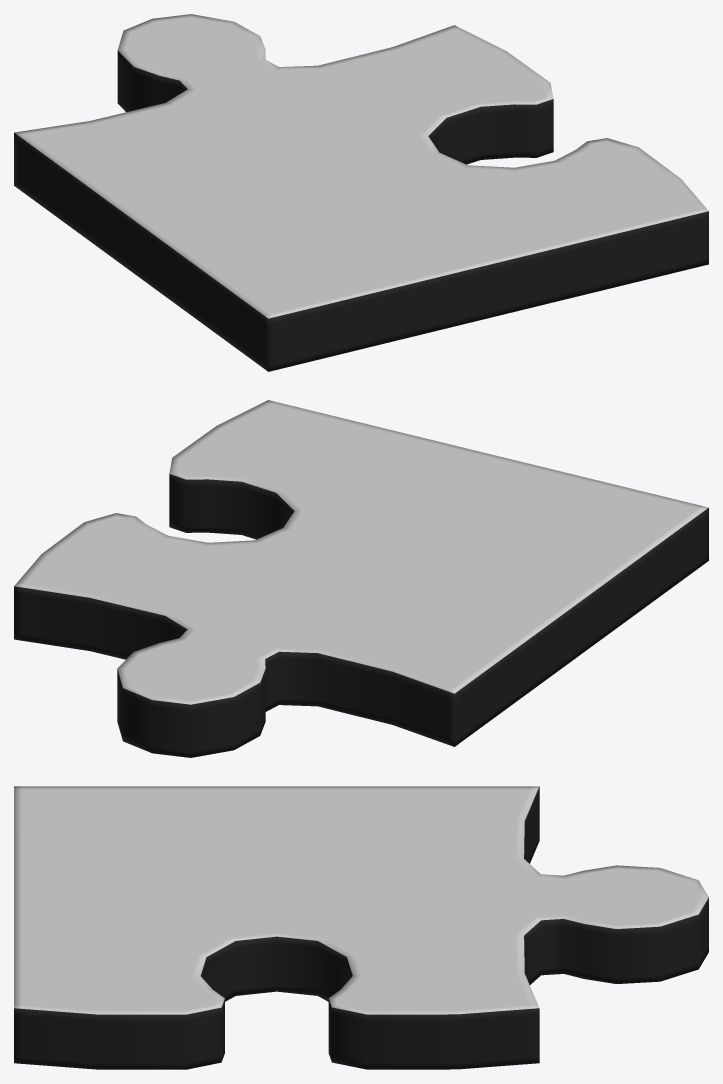
3 views of the same model, one above another, from view 1: azimuth 30°, elevation 25°; view 2: azimuth 150°, elevation 25°; view 3: azimuth 270°, elevation 25° (orthographic). The views are drawn at different scales.
Visible parts, largest first — view 1: puzzle69; view 2: puzzle69; view 3: puzzle69.
Part boxes in pixels (bbox=[...]): puzzle69: bbox=[14, 14, 708, 371]; puzzle69: bbox=[14, 400, 708, 757]; puzzle69: bbox=[14, 786, 708, 1069].
Bounding box in the file's own units: 3.07 × 0.344 × 3.94.
